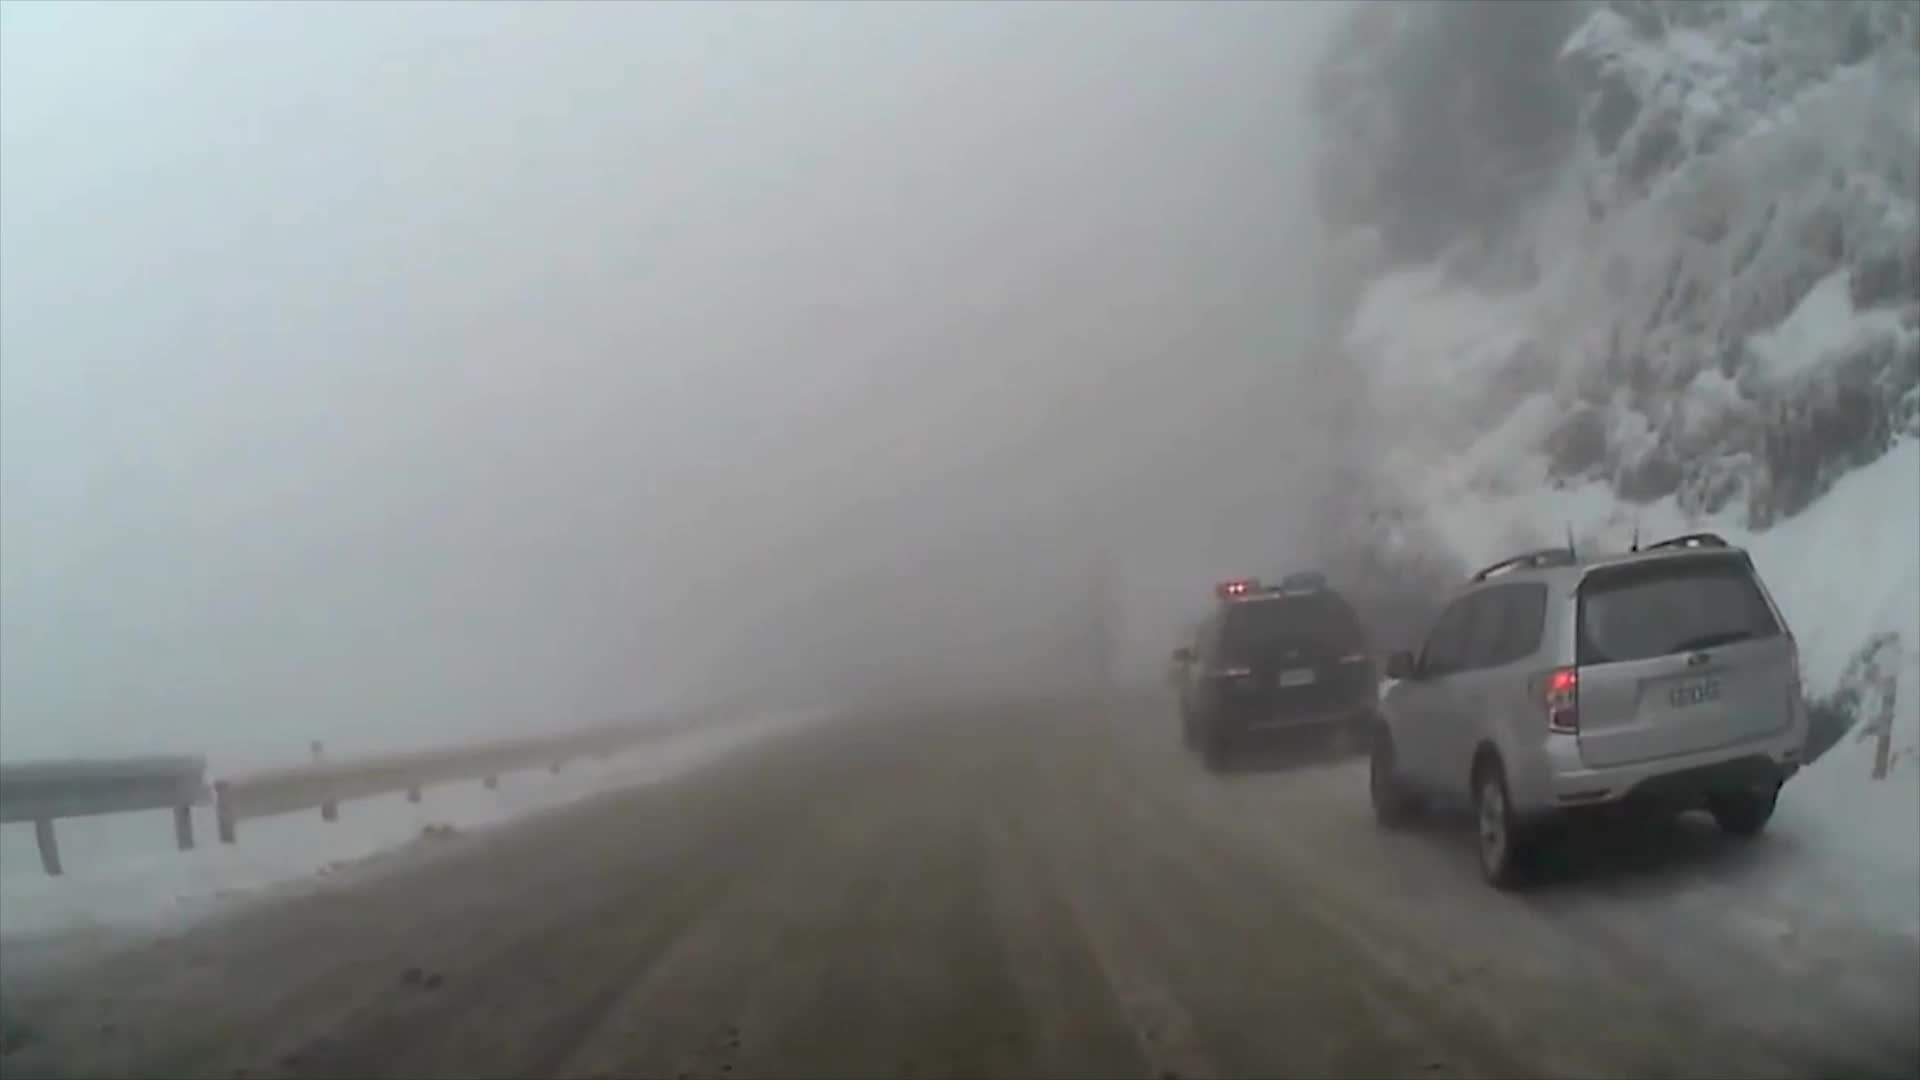vehicle: (1367, 530, 1813, 889), (1164, 570, 1375, 774)
